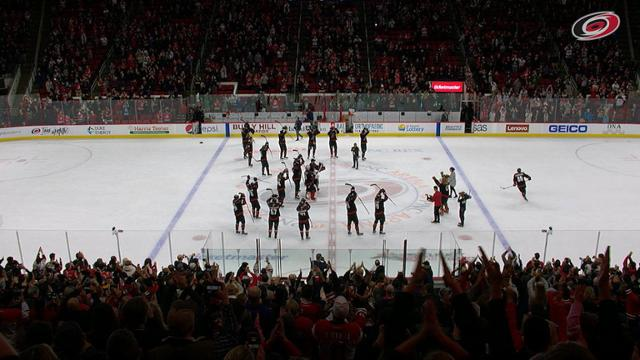geico: (548, 120, 592, 135)
